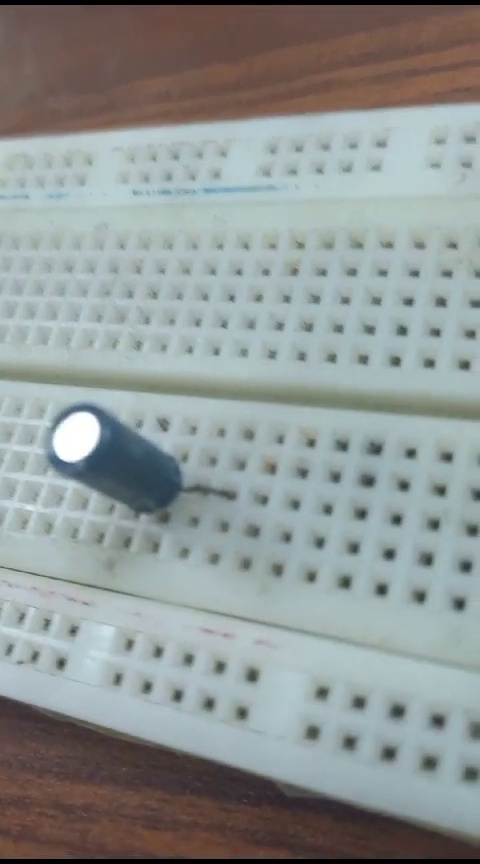capacitor: (37, 397, 206, 519)
